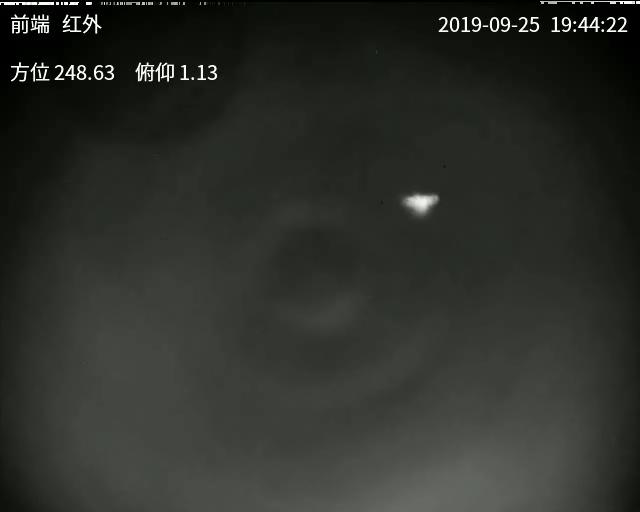uav: (400, 186, 443, 212)
